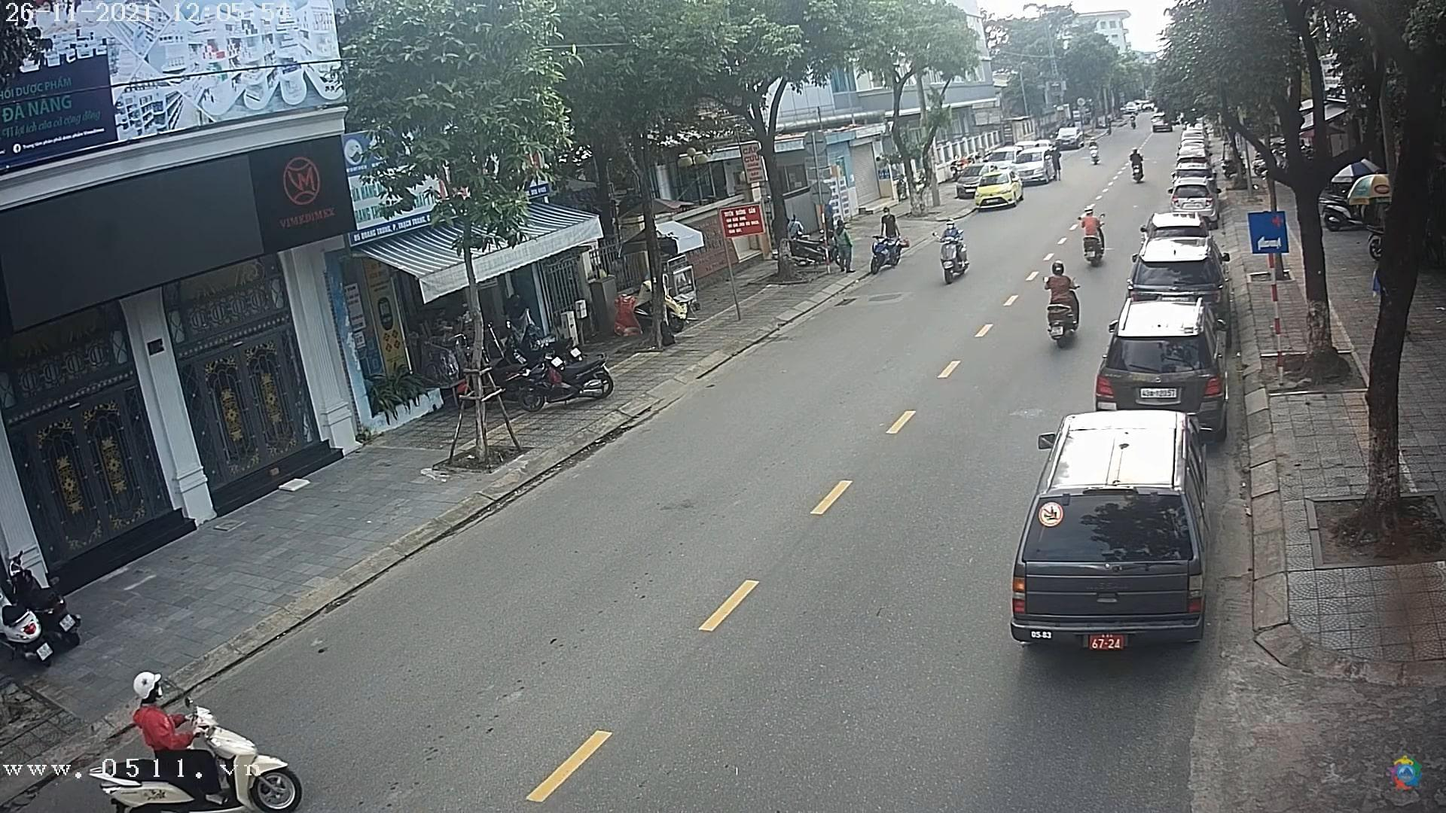car: (1015, 413, 1208, 648), (1097, 296, 1227, 427), (1133, 236, 1227, 291), (1142, 211, 1209, 241), (1166, 181, 1213, 213), (1057, 125, 1087, 147)
motorbike: (1044, 291, 1084, 345), (938, 243, 968, 288)
